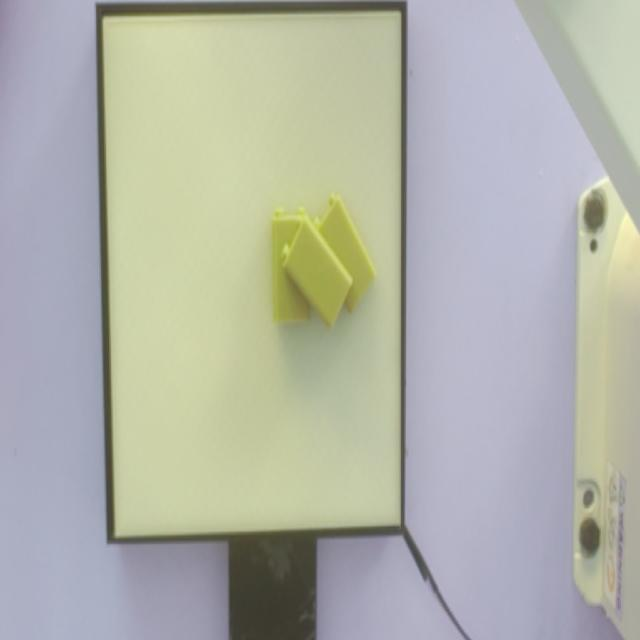bateria: (281, 216, 354, 332)
mesa: (96, 1, 407, 544)
